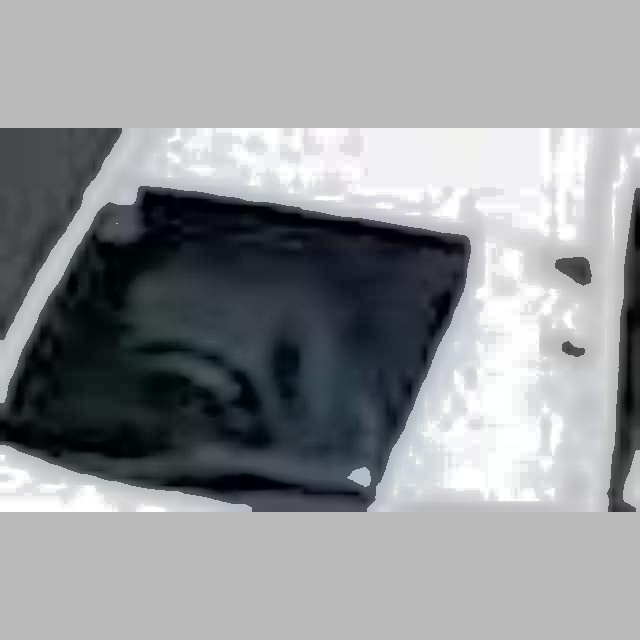tidak-pakai: (98, 211, 339, 414)
